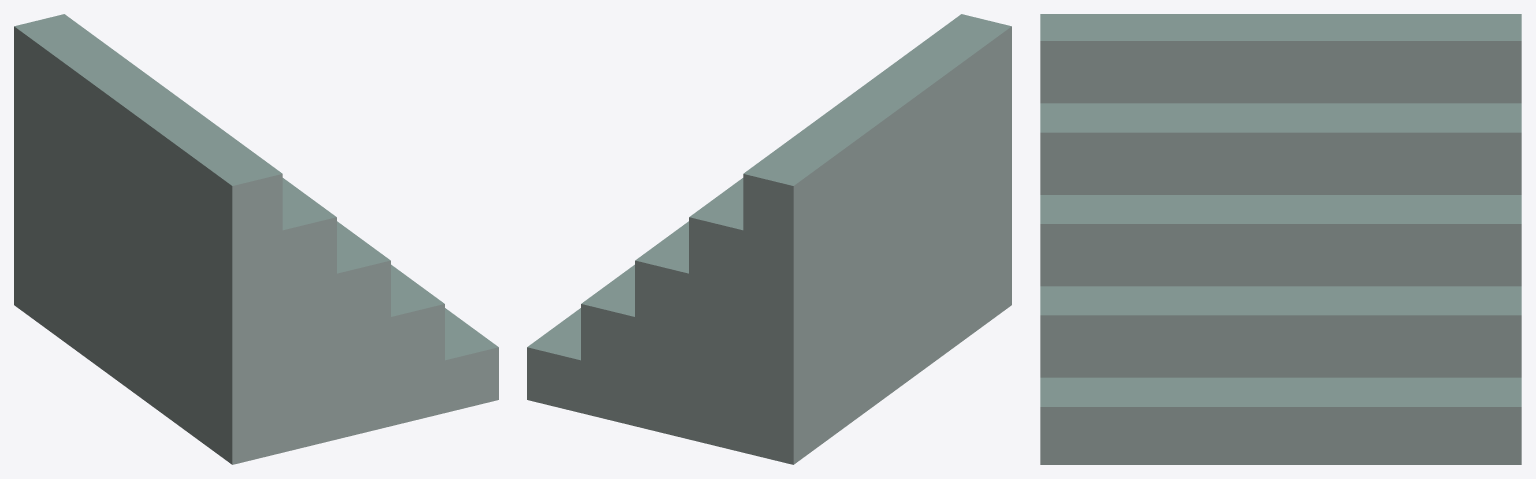
The model's file is Stairs 1.fbx.
3 renders of one model, left to right at view 1: azimuth 30°, elevation 25°; view 2: azimuth 150°, elevation 25°; view 3: azimuth 270°, elevation 25°, orthographic. The views are drawn at different scales.
Visible parts, largest first — view 1: Cube; view 2: Cube; view 3: Cube.
Boxes of the visible parts, <box> form: Cube: <box>14,14,498,464</box>; Cube: <box>527,14,1011,464</box>; Cube: <box>1040,14,1521,464</box>.
Bounding box in the file's own units: 200 × 200 × 284.
